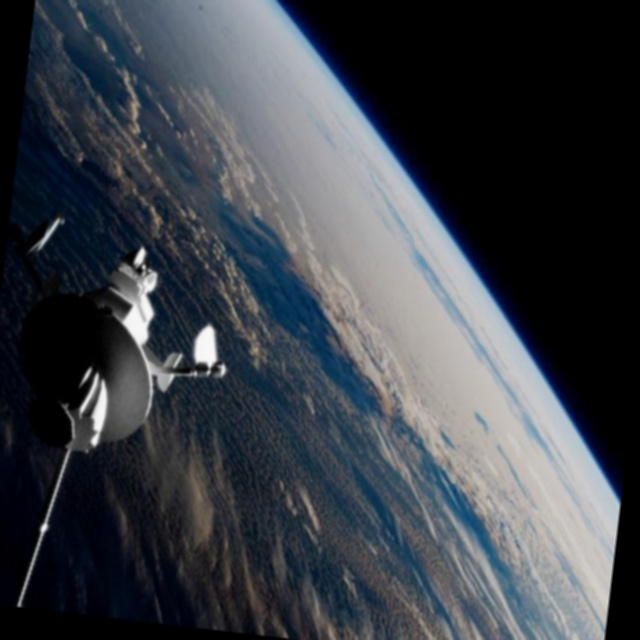satellite: (0, 224, 240, 628)
